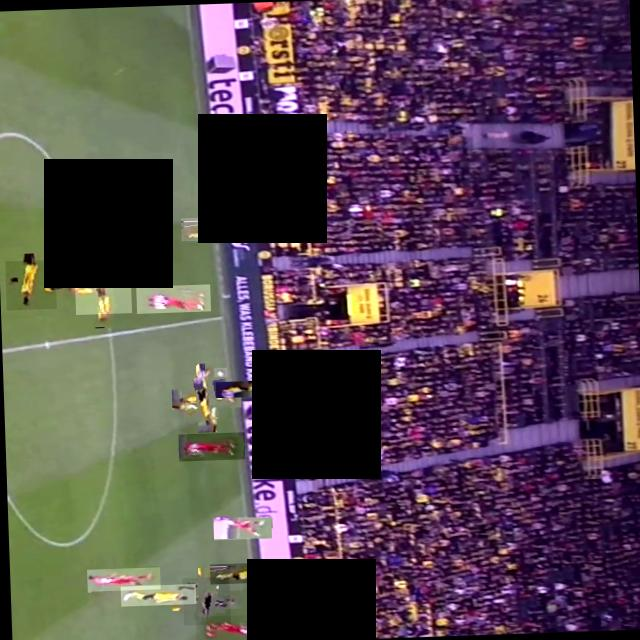ball: (213, 368, 226, 377)
referee: (180, 576, 230, 625)
soccer-player: (72, 256, 130, 314), (4, 259, 56, 310), (180, 373, 230, 423), (134, 284, 210, 314), (179, 215, 256, 241), (177, 432, 244, 461), (86, 566, 160, 592), (194, 614, 265, 640), (119, 584, 195, 606), (208, 562, 278, 584), (212, 516, 270, 540), (250, 588, 307, 610), (214, 380, 265, 398)
